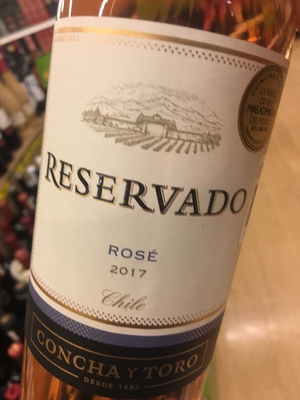reservado rose: (34, 8, 283, 400)
